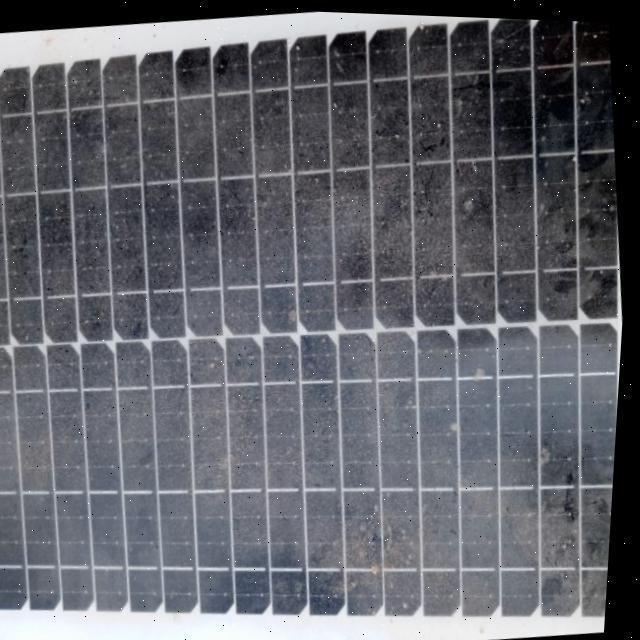Surface Contaminant: (0, 14, 621, 640)
